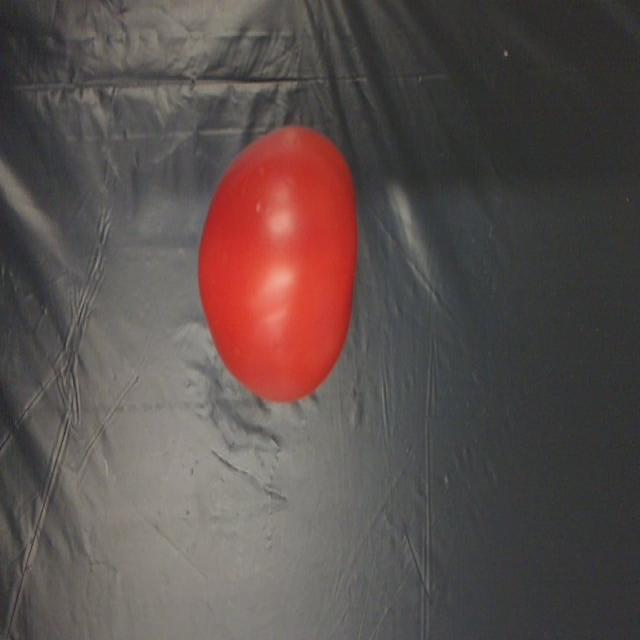kirmizi: (190, 99, 370, 429)
